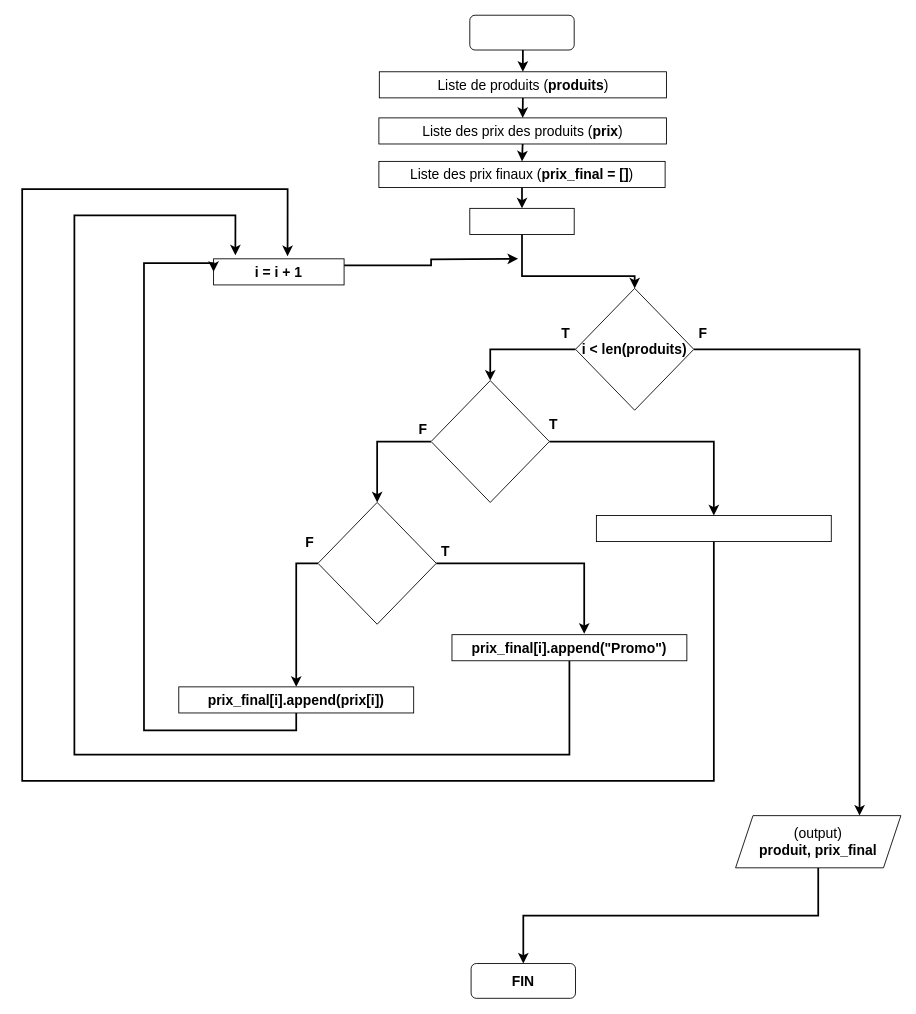
Some shapes in this 916 by 1014 pixel diagram are drawn without their labels. Here are the shapes that lost their labels. From the top down, the centre of each, then its label:
At pixel 521 32: "DEBUT".
At pixel 521 220: "i = 0".
At pixel 489 441: "prix[i] > 20".
At pixel 713 528: "prix_final[i].append(prix[i] * 0.9)".
At pixel 376 563: "prix[i] < 5".
